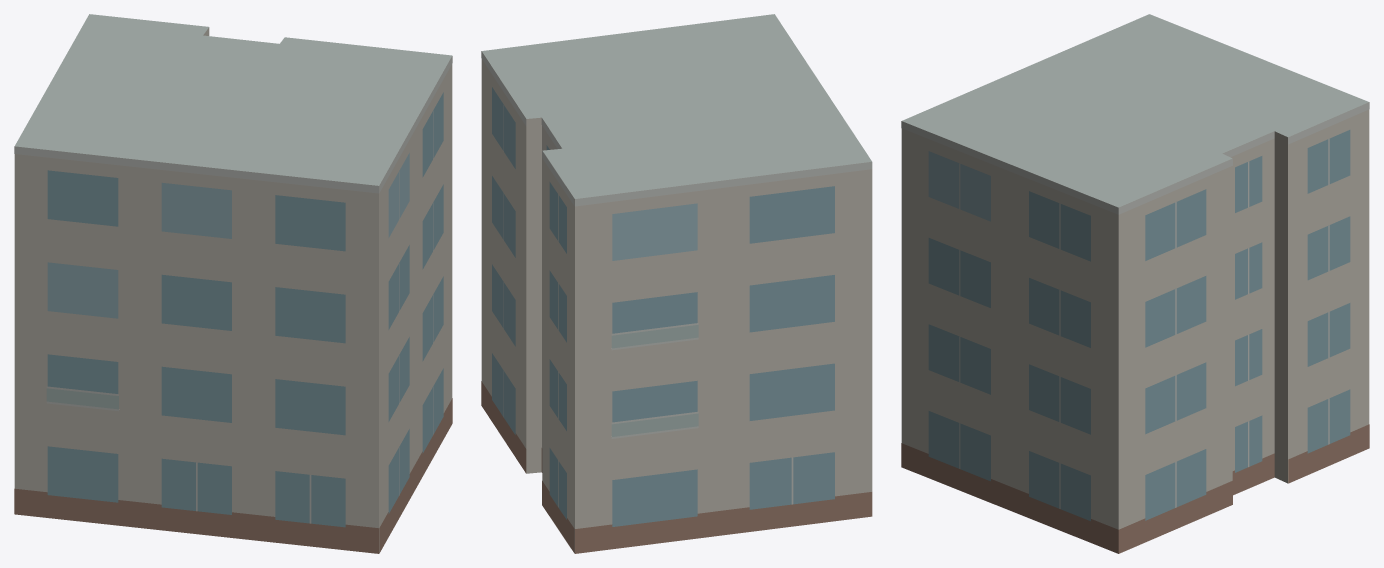
Rendered from survey-upis-32754645.glb.
3 views of the same model, side by side, from view 1: azimuth 30°, elevation 25°; view 2: azimuth 150°, elevation 25°; view 3: azimuth 270°, elevation 25° (orthographic). The views are drawn at different scales.
Visible parts, largest first — view 1: survey-upis-32754645.tmp; view 2: survey-upis-32754645.tmp; view 3: survey-upis-32754645.tmp.
Part boxes in pixels (left/top/right/bottom): survey-upis-32754645.tmp: left=14, top=14, right=452, bottom=553; survey-upis-32754645.tmp: left=481, top=14, right=872, bottom=553; survey-upis-32754645.tmp: left=901, top=14, right=1369, bottom=553.
Bounding box in the file's own units: 14.04 × 11.7 × 14.33.
